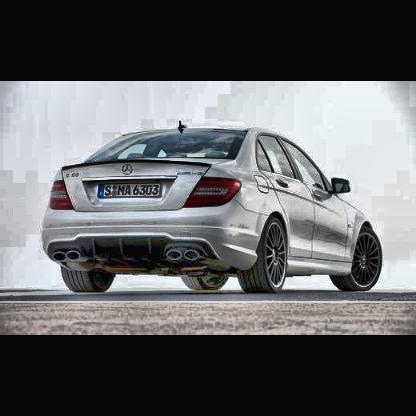Mercedes-Benz C-Class Sedan 2012: (41, 116, 385, 296)
